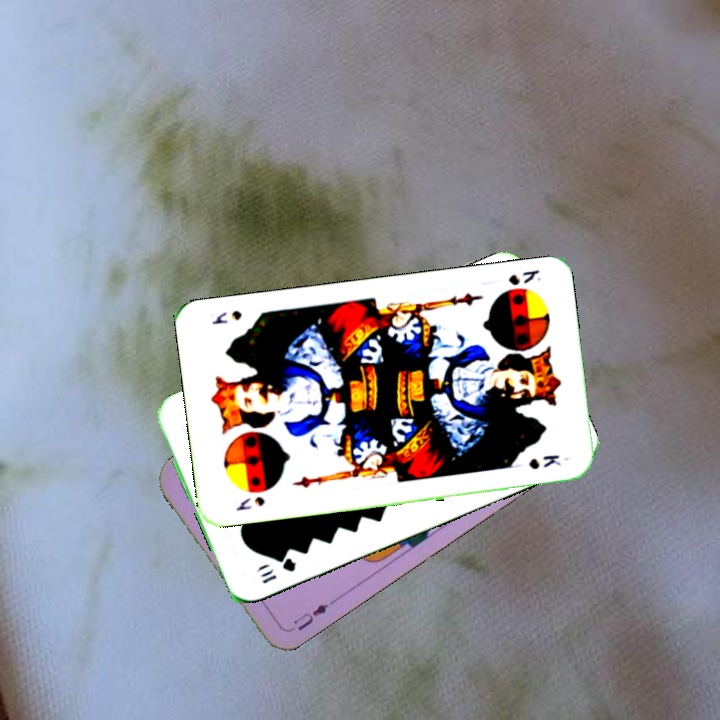EU: (289, 596, 337, 634)
G10: (255, 553, 299, 587)
SK: (505, 265, 543, 288), (232, 492, 268, 513)
